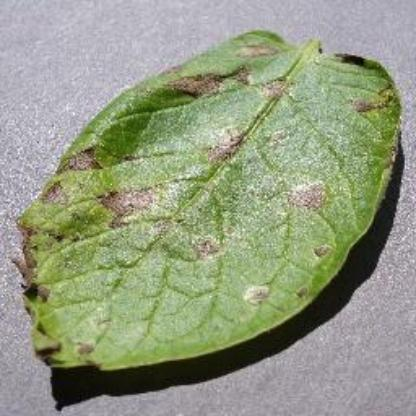Early-Blight: (15, 23, 404, 380)
